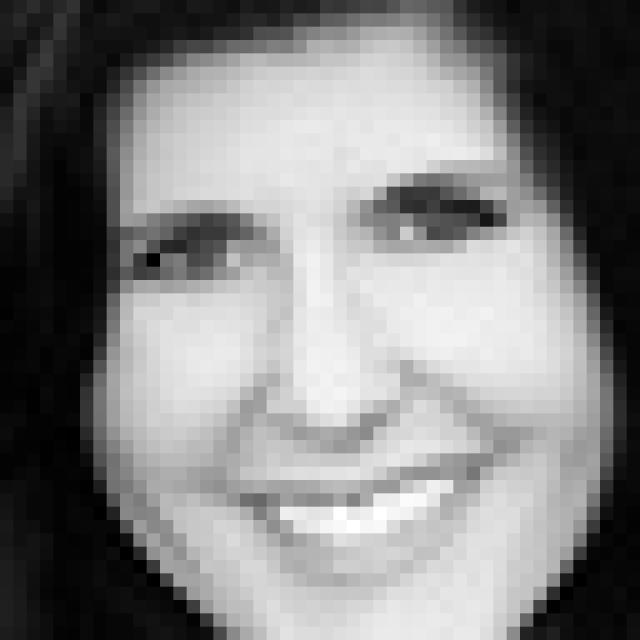happy: (118, 150, 550, 597)
